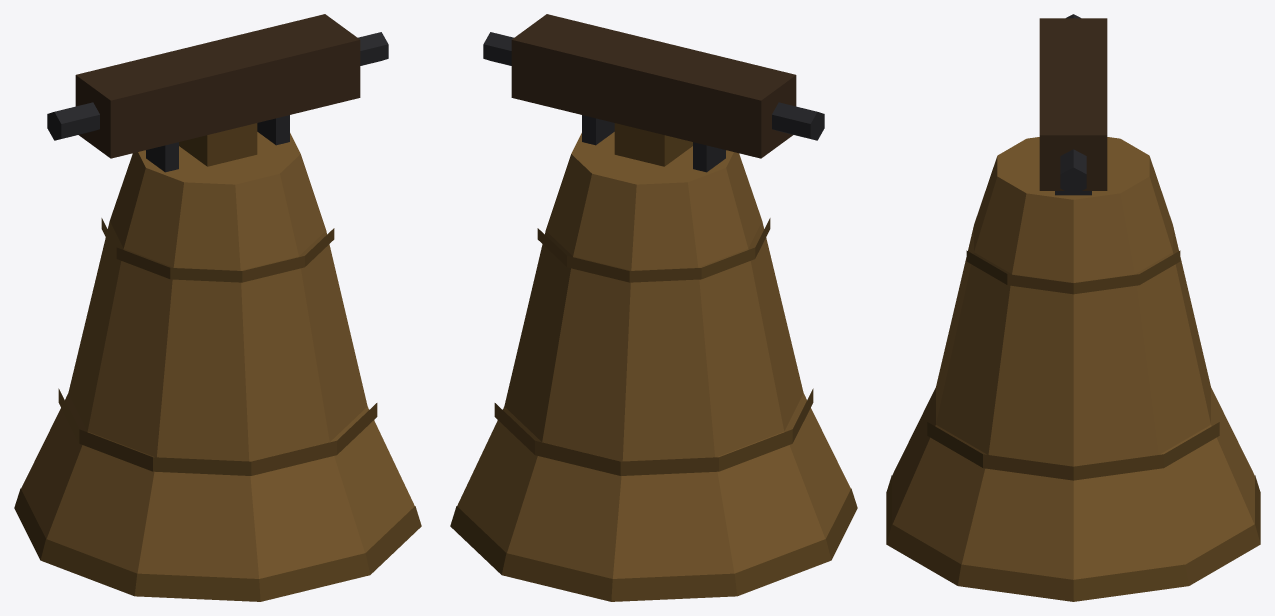
Rendered from cathedral-bell.glb.
The picture shows the model from 3 angles, left to right: view 1: azimuth 30°, elevation 25°; view 2: azimuth 150°, elevation 25°; view 3: azimuth 270°, elevation 25°; orthographic projection. The views are drawn at different scales.
Parts seen in each view (by area): view 1: cathedral-bell; view 2: cathedral-bell; view 3: cathedral-bell.
Boxes of the visible parts, x1,y1,x2,y2 form: cathedral-bell: (14,14,421,601); cathedral-bell: (450,14,857,601); cathedral-bell: (886,14,1260,601).
Bounding box in the file's own units: 1.28 × 1.58 × 1.22.
